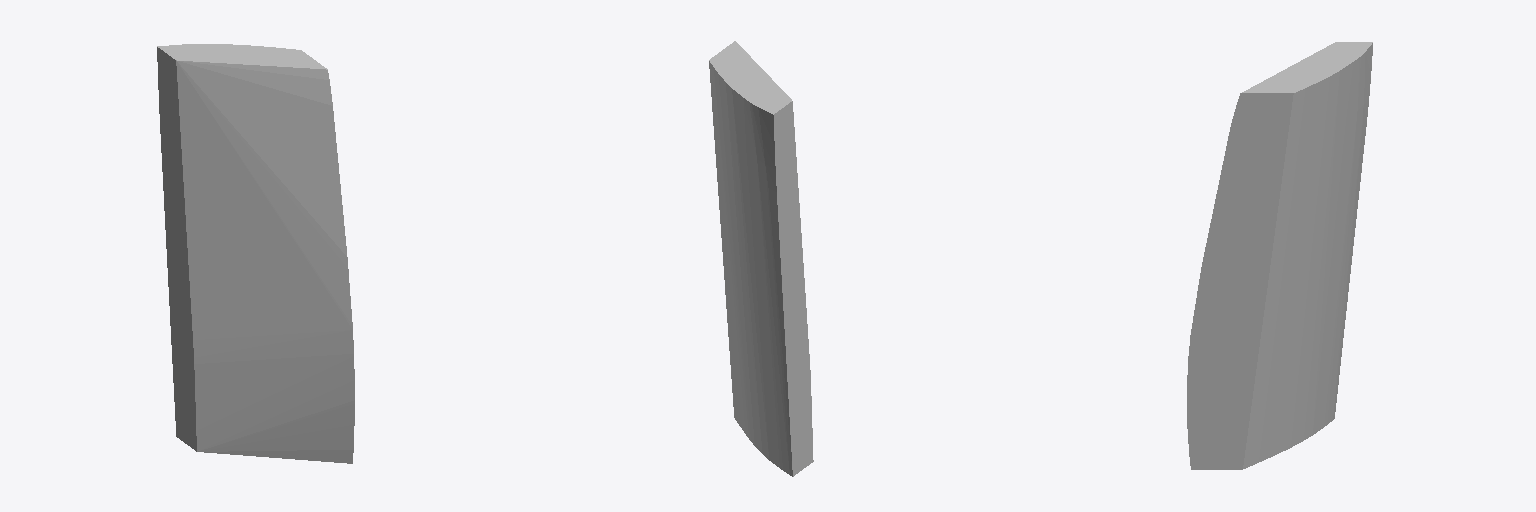
The model's file is phantom-elastrat_collision_118.obj.
The picture shows the model from 3 angles: view 1: azimuth 30°, elevation 25°; view 2: azimuth 150°, elevation 25°; view 3: azimuth 270°, elevation 25°; orthographic projection.
Size of the model in its own units: 0.0054 by 0.0185 by 0.0083.